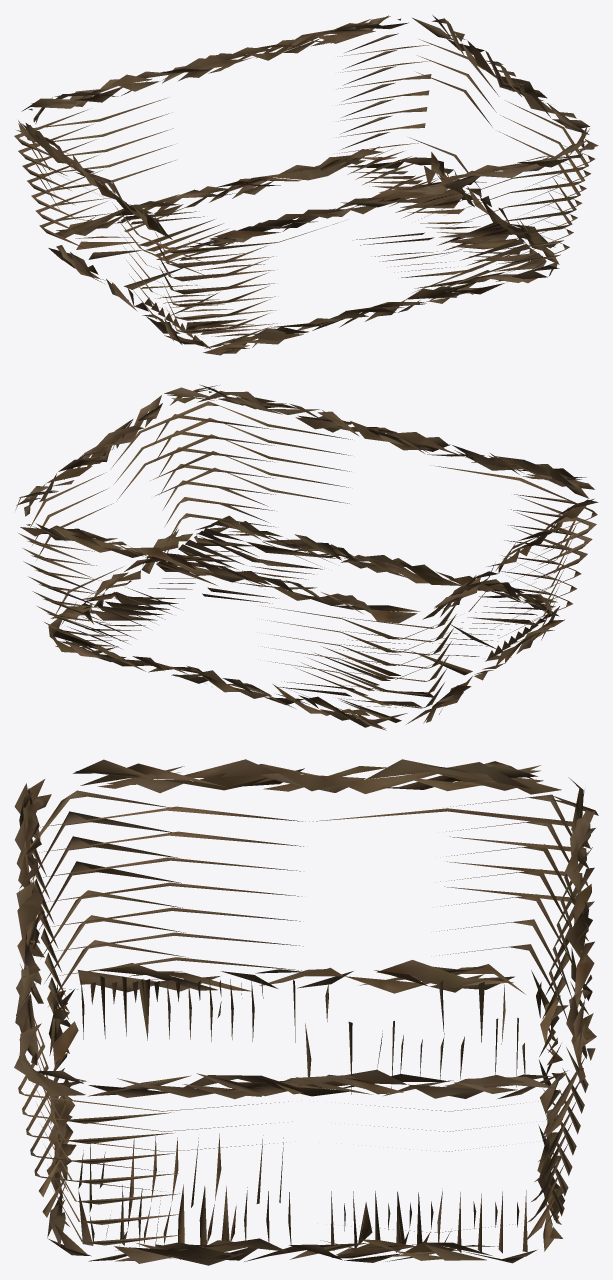
File: basket.glb
3 views of the same model, one above another, from view 1: azimuth 30°, elevation 25°; view 2: azimuth 150°, elevation 25°; view 3: azimuth 270°, elevation 25° (orthographic). The views are drawn at different scales.
Visible parts, largest first — view 1: wicker_basket_01; view 2: wicker_basket_01; view 3: wicker_basket_01.
Part boxes in pixels (x1,y1,x2,y2): wicker_basket_01: [14, 15, 598, 355]; wicker_basket_01: [15, 384, 598, 730]; wicker_basket_01: [14, 759, 598, 1265].
Size of the model in its own units: 0.383 by 0.1185 by 0.2931.
1 material, 1 textured.
